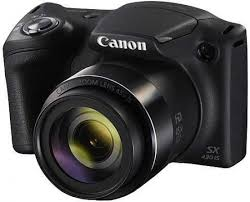camera: (3, 3, 246, 195)
